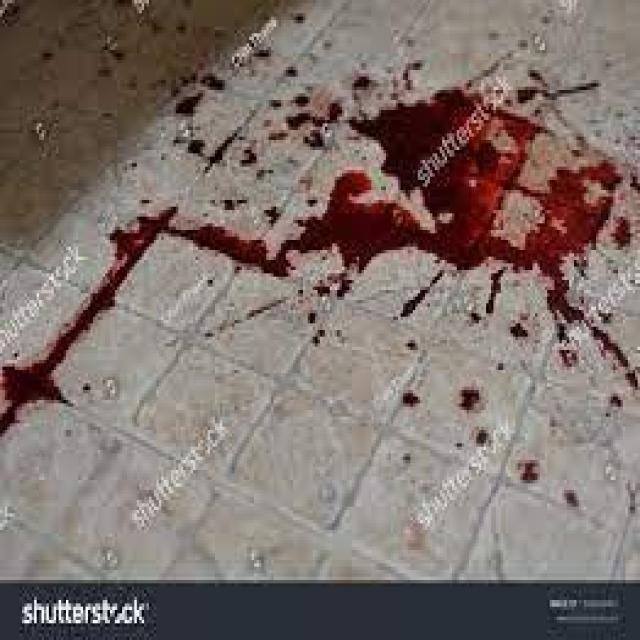flood: (223, 34, 640, 320), (0, 196, 248, 404)
